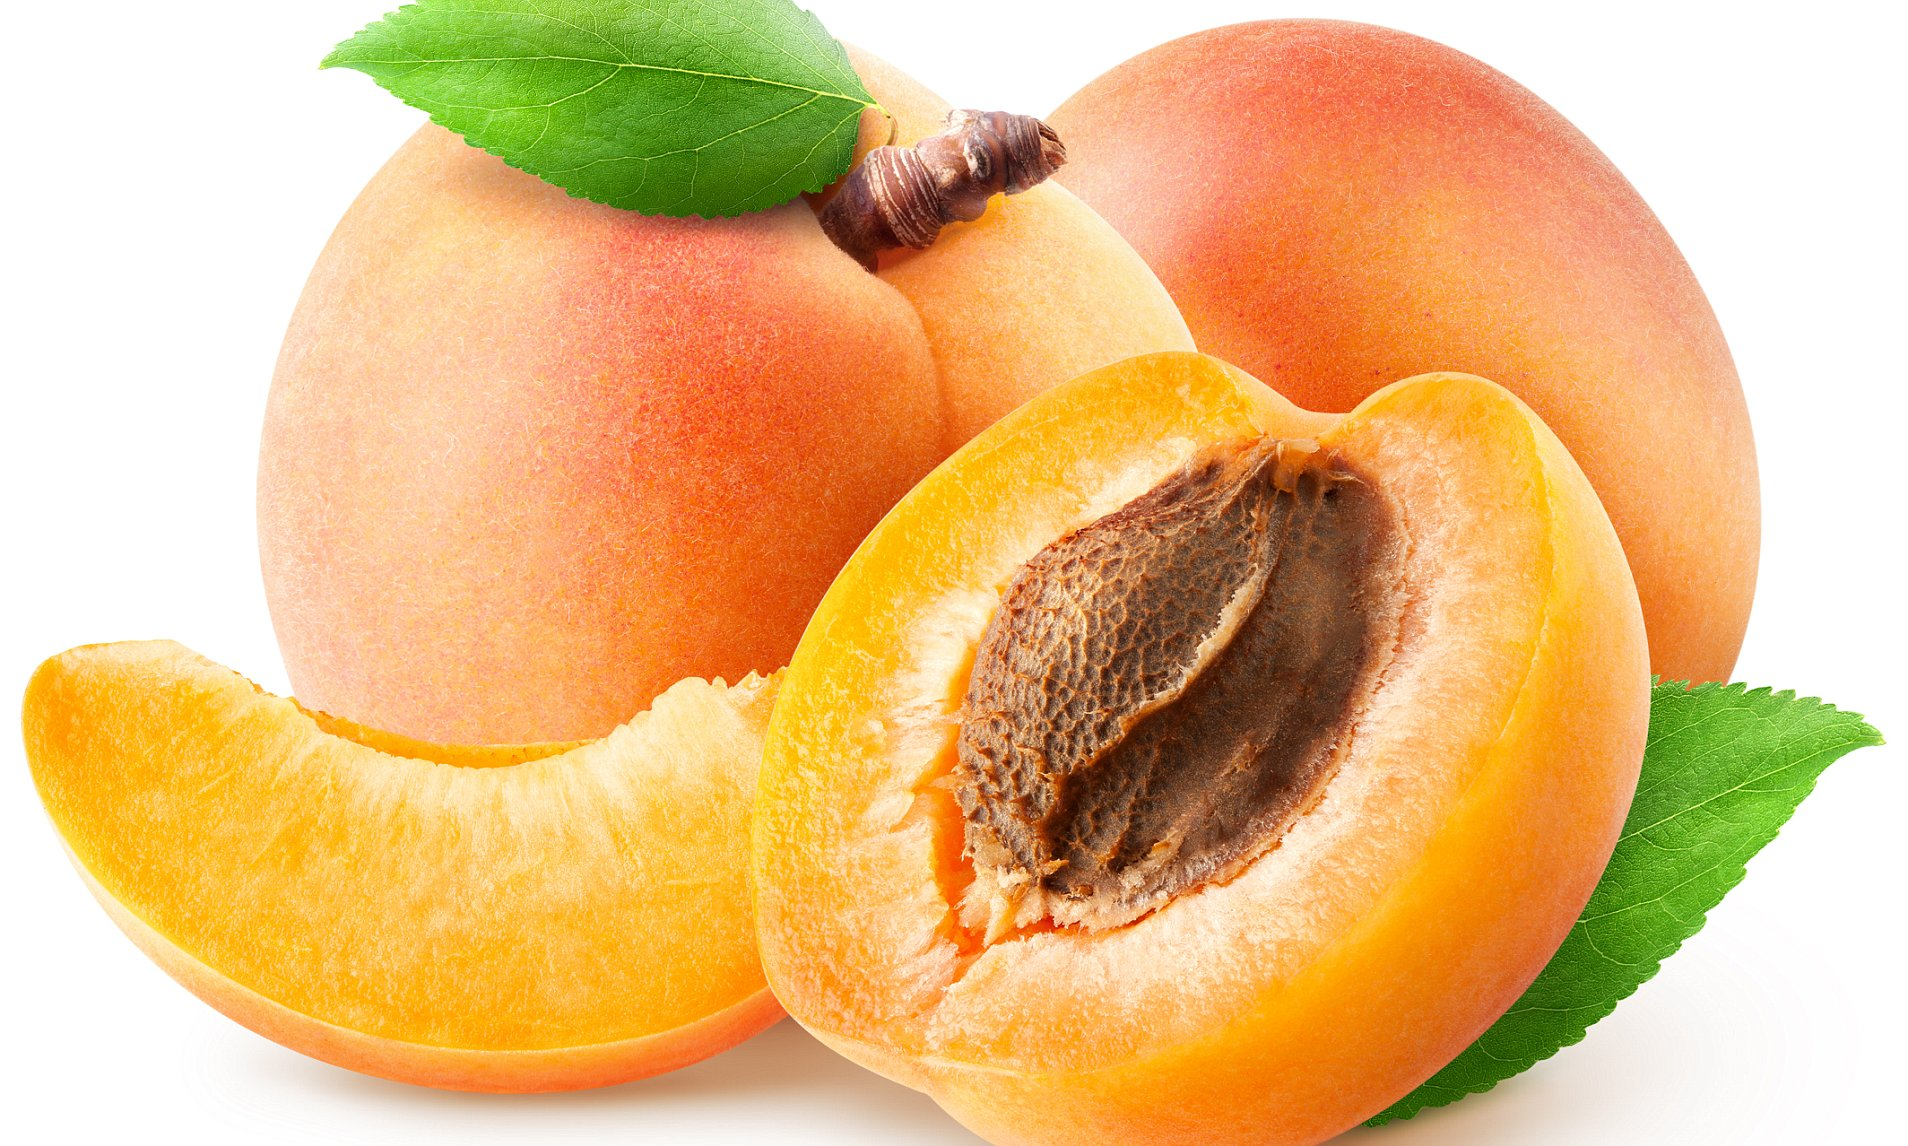Apricot 17cal Avocado Tropical Smoothie missing:Kiwi: (25, 20, 1886, 1146)
